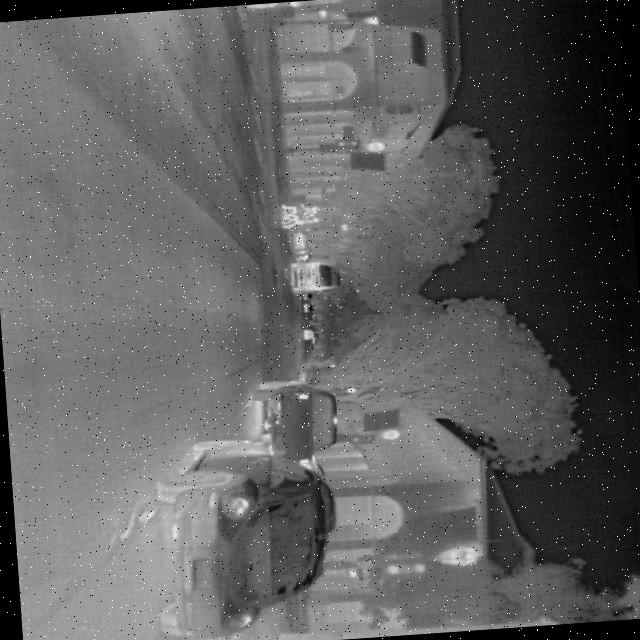Pedestrian: (279, 201, 318, 218), (280, 215, 318, 230), (244, 1, 302, 10), (280, 212, 316, 224)
Vehicle: (141, 429, 348, 640), (248, 374, 342, 464), (287, 257, 341, 294)
